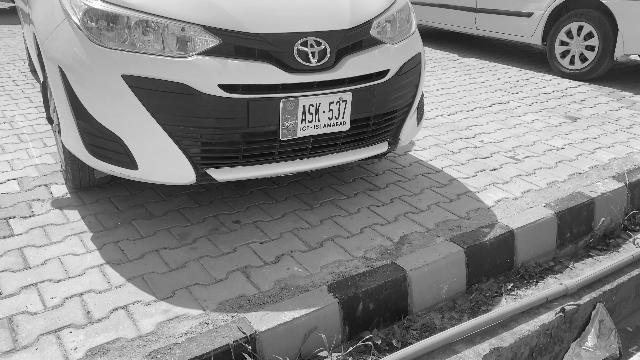Number: (299, 98, 350, 127)
